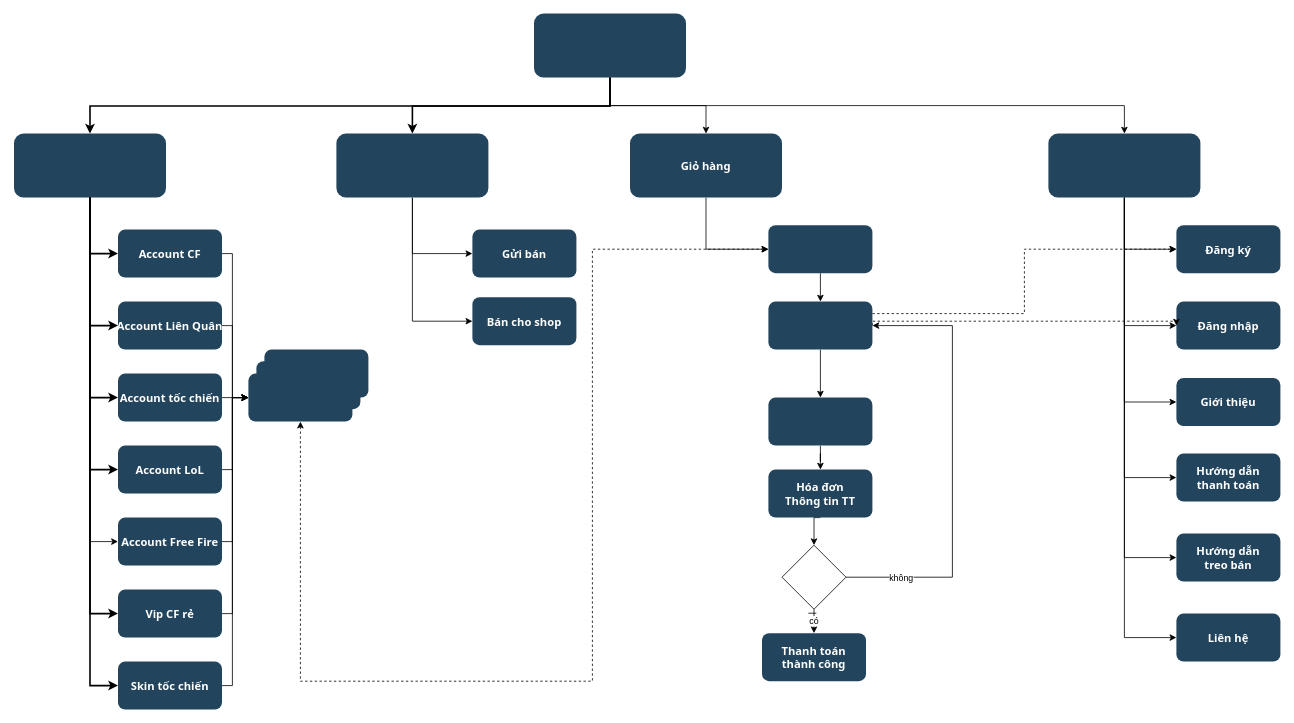
Some shapes in this 1294 by 723 pixel diagram are drawn without their labels. Each missing label, with the centre of its shape:
"Application" belongs at (610,45).
"Chi tiết Account/ Vật phẩm" belongs at (300,397).
"Home" belongs at (90,165).
"Khác" belongs at (1124,165).
"Phương thức thanh toán" belongs at (820,421).
"Rao bán" belongs at (412,165).
"Thông tin nhận (email, sdt)" belongs at (820,325).
"Xem giỏ hàng" belongs at (820,249).
"Xác nhận thanh toán" belongs at (813,576).
